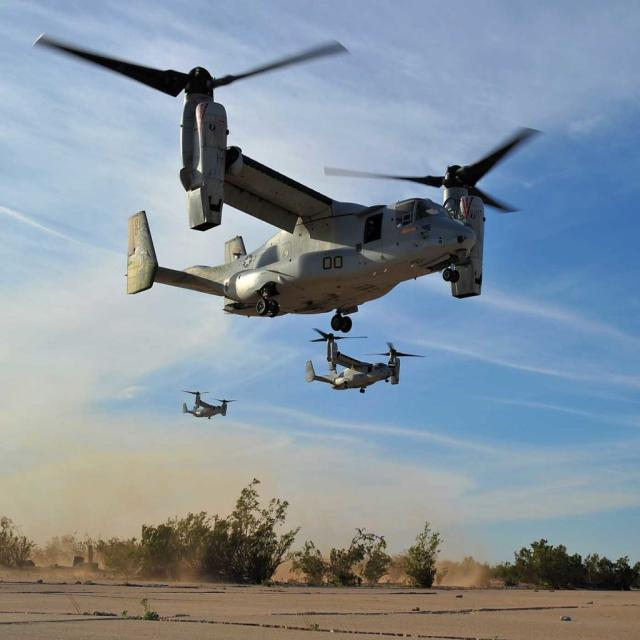MIL_Plane: (31, 33, 544, 334), (305, 327, 426, 393), (82, 380, 140, 411)
